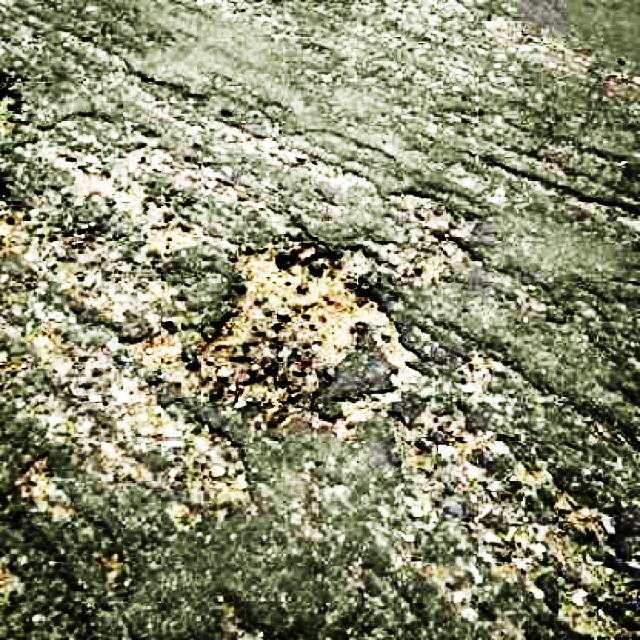pothole: (412, 409, 637, 637), (204, 232, 390, 398), (0, 146, 206, 260), (134, 386, 252, 505)
